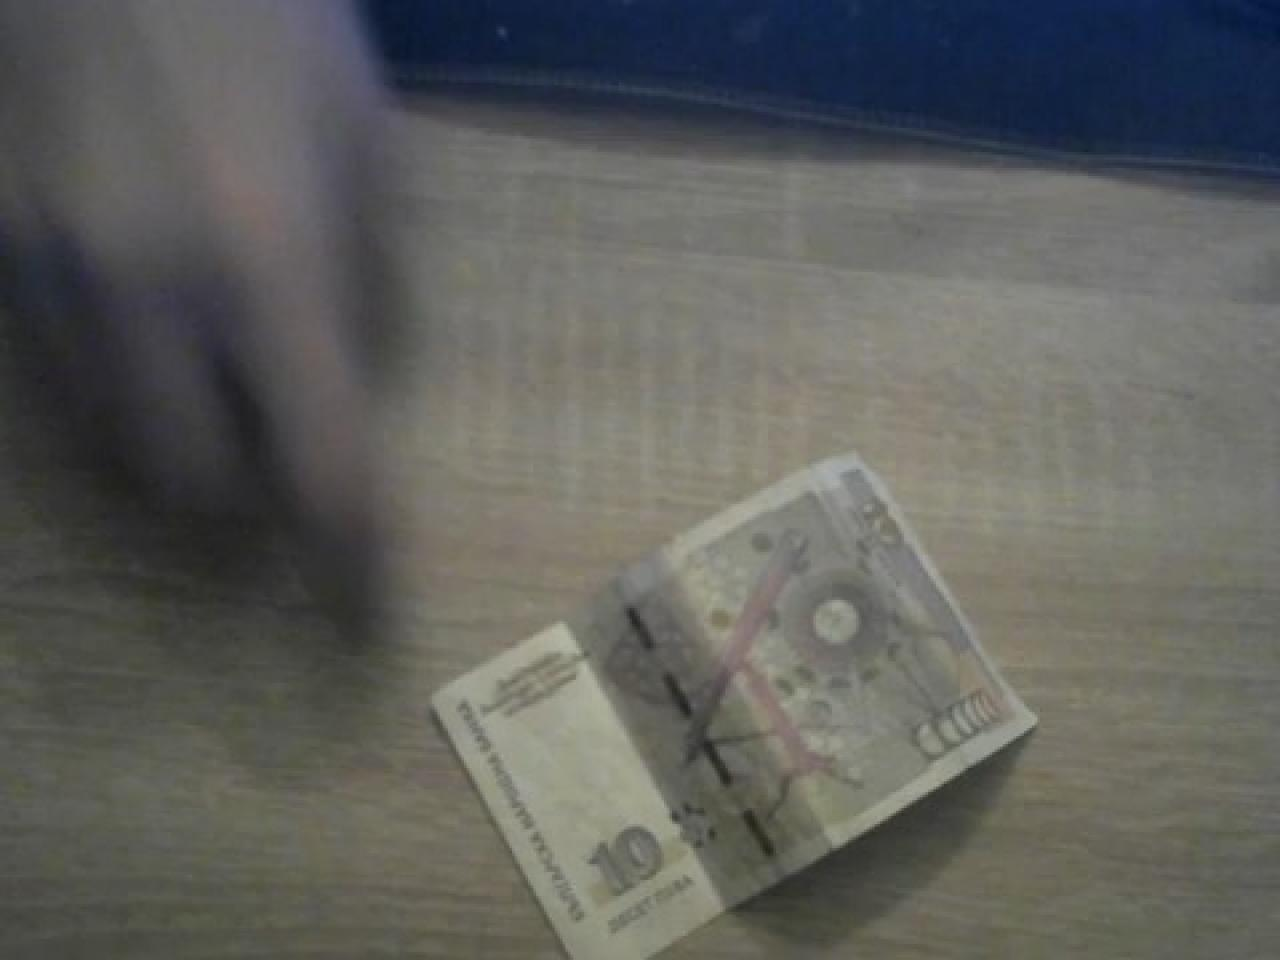10leva: (426, 456, 1037, 960)
